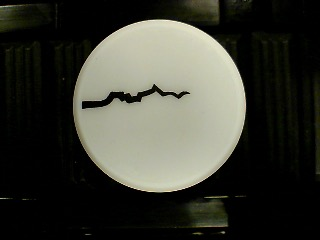CRACK: (72, 19, 247, 194)
